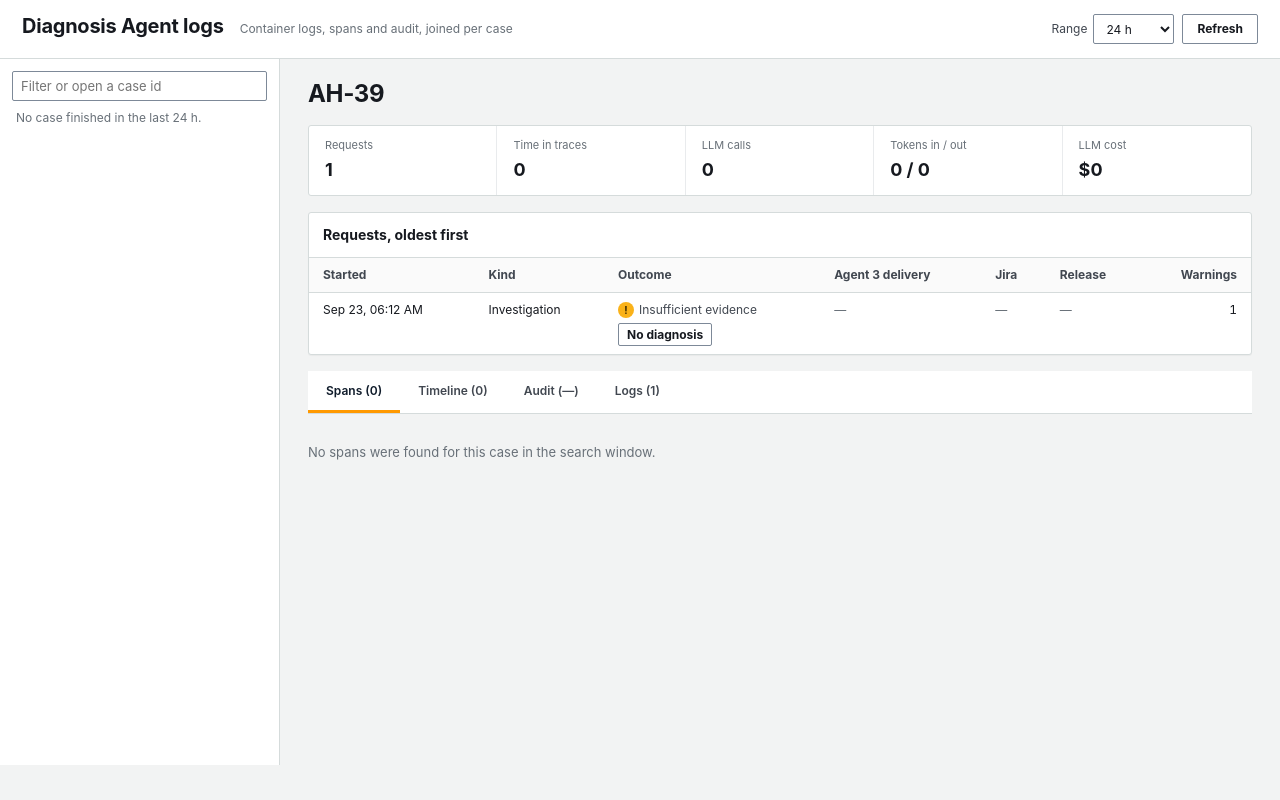
Scenario: re-investigating pre-fills the last run's scope, limited to known services, and starts a new task
Step 1. Click the button "No diagnosis" → (665, 334), box top-left (618, 323), bottom-right (712, 346)
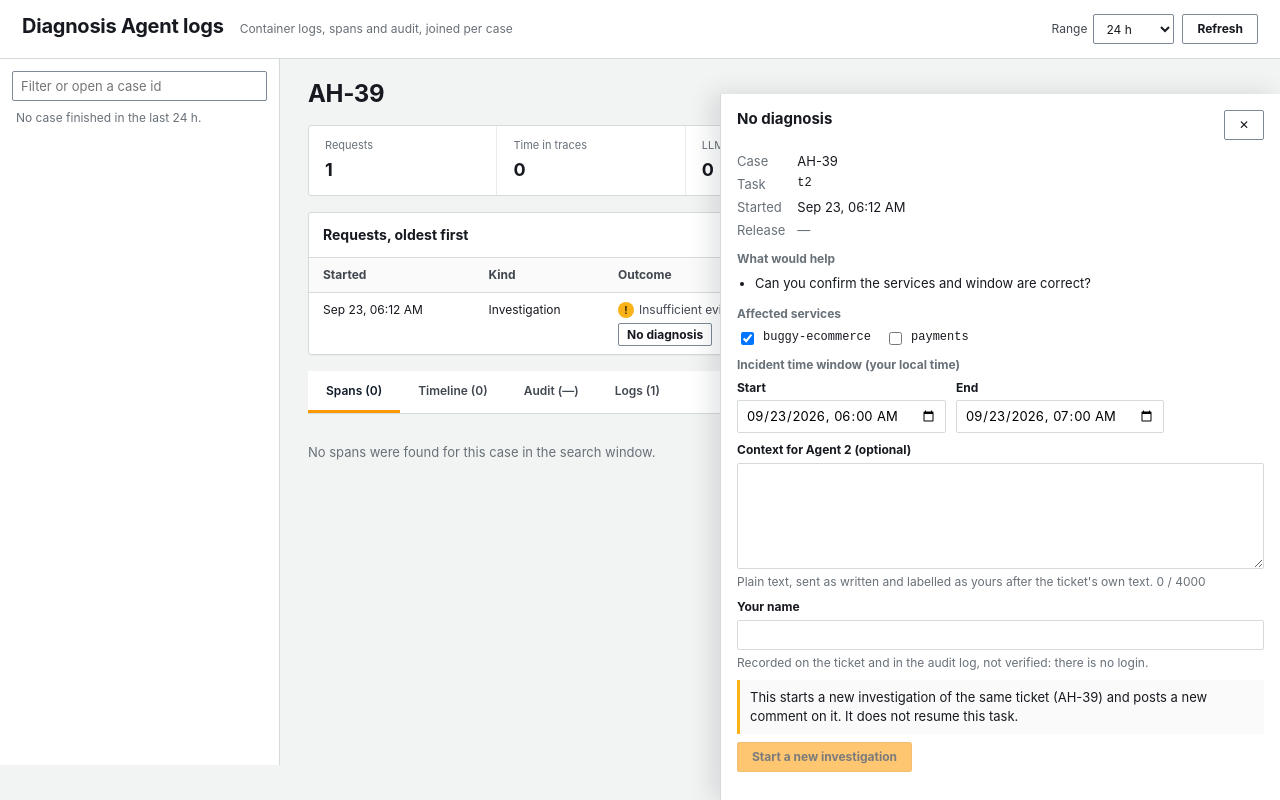
Check: the list item "Can you confirm the services and window are correct?" is shown, box top-left (755, 275), bottom-right (1091, 291)
Check: the checkbox labelled "buggy-ecommerce" is checked, box top-left (741, 332), bottom-right (754, 345)
Check: the checkbox labelled "payments" is not checked, box top-left (889, 332), bottom-right (902, 345)
Step 2. Type "Checkout broke after the 14:05 deploy. <b>hi</b>" into the text box labelled "Context for Agent 2 (optional)" → (1000, 516), box top-left (737, 463), bottom-right (1264, 569)
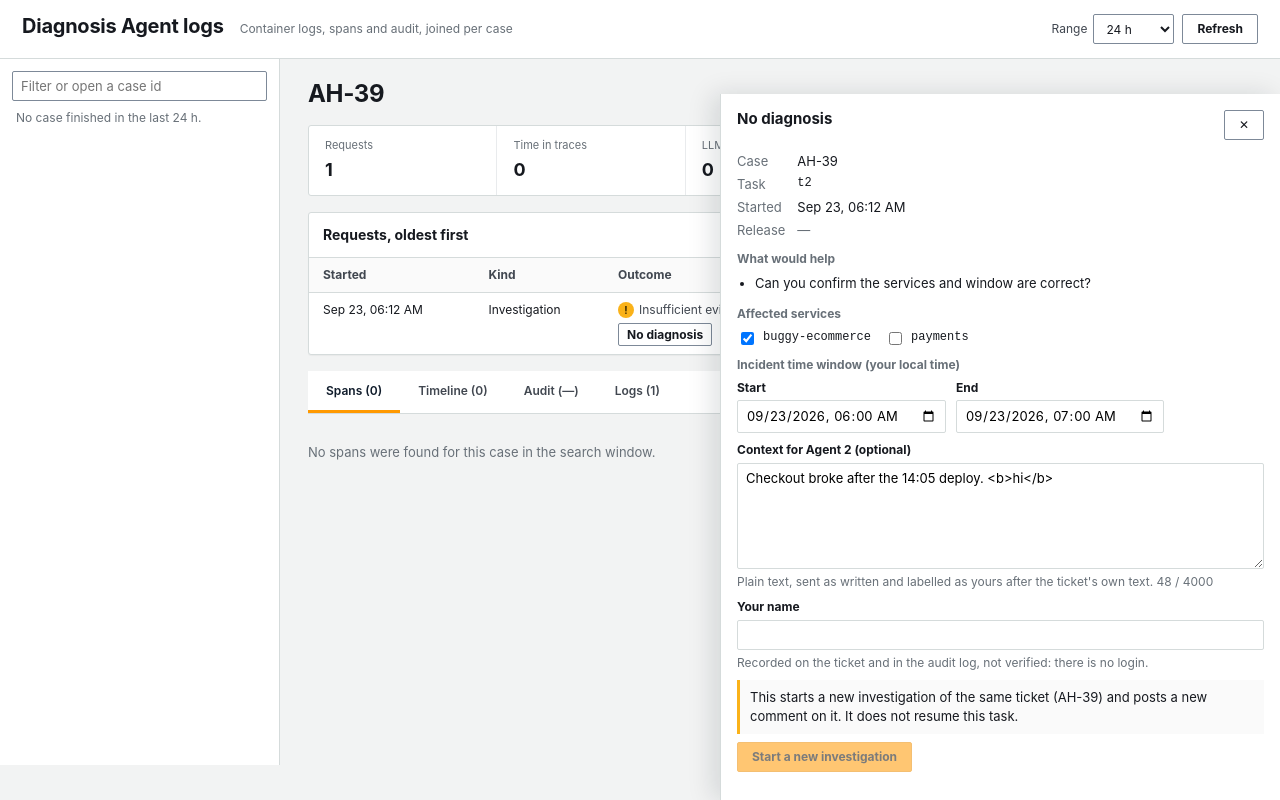
Step 3. Click the checkbox labelled "payments" → (896, 338), box top-left (889, 332), bottom-right (902, 345)
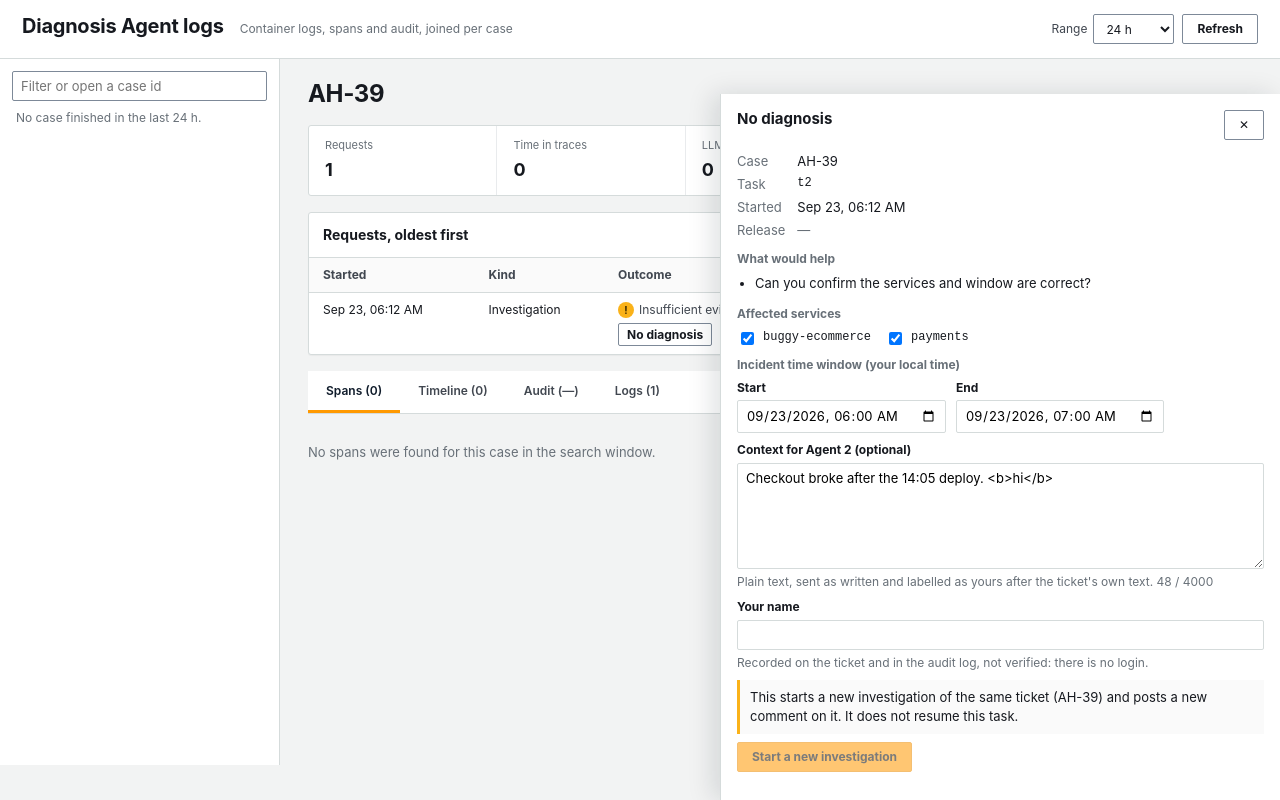
Step 4. Type "Dana" into the field labelled "Your name" → (1000, 635), box top-left (737, 620), bottom-right (1264, 650)
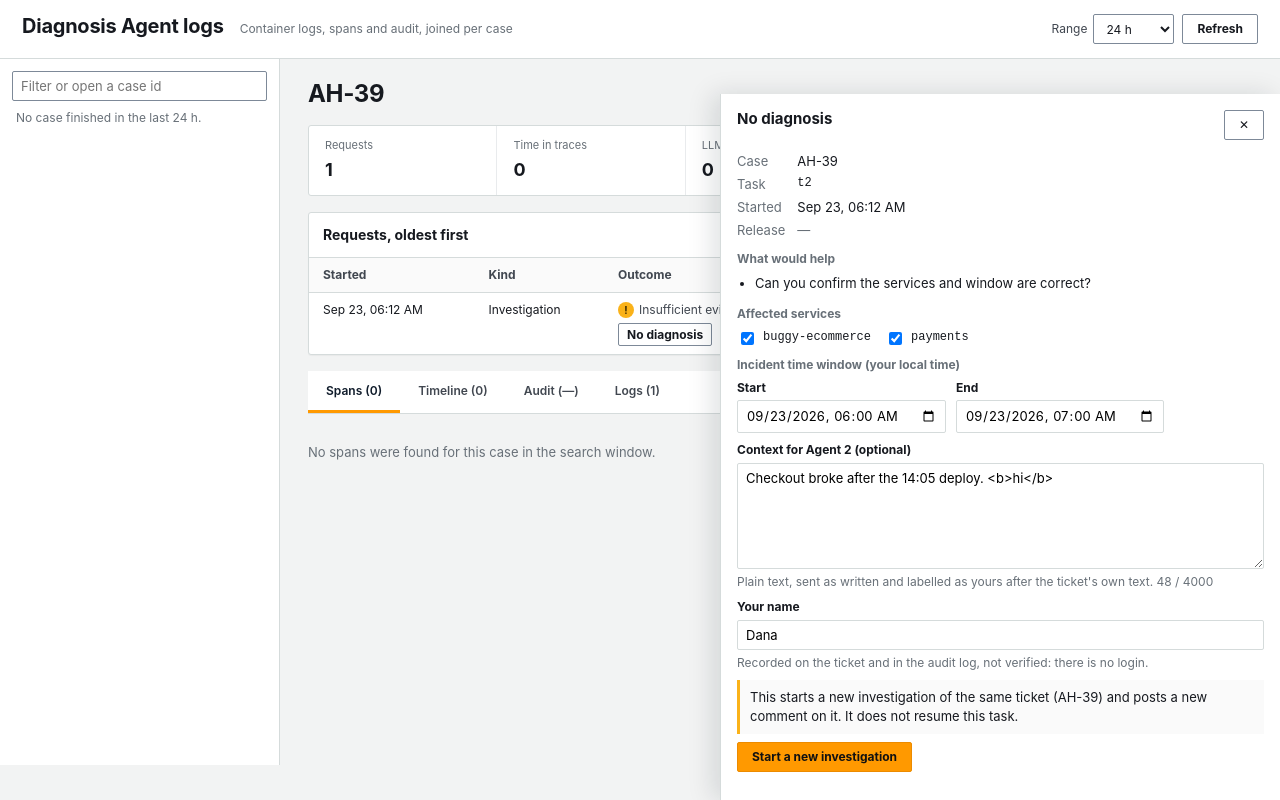
Step 5. Click the button "Start a new investigation" → (824, 756), box top-left (737, 742), bottom-right (912, 772)
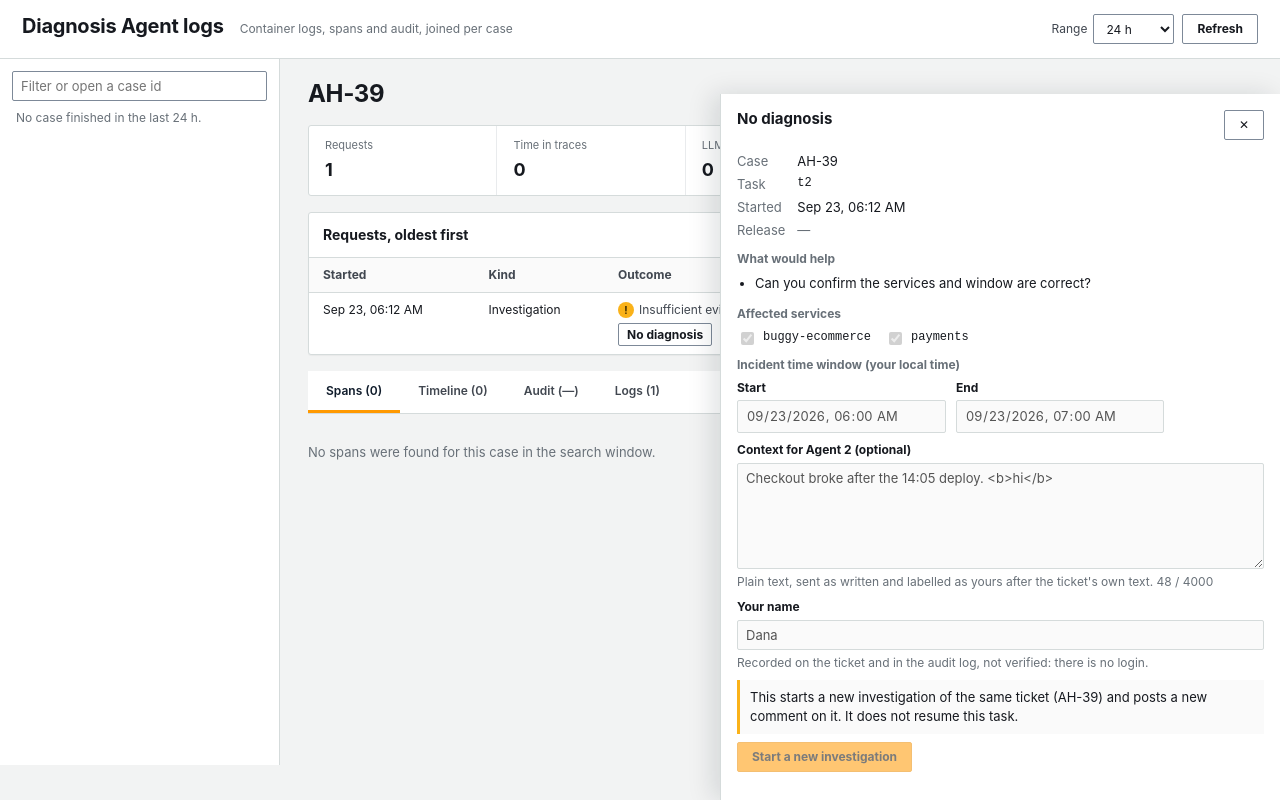
Step 6. Click the button "Start a new investigation" → (824, 756), box top-left (737, 742), bottom-right (912, 772)
(page scrolled)
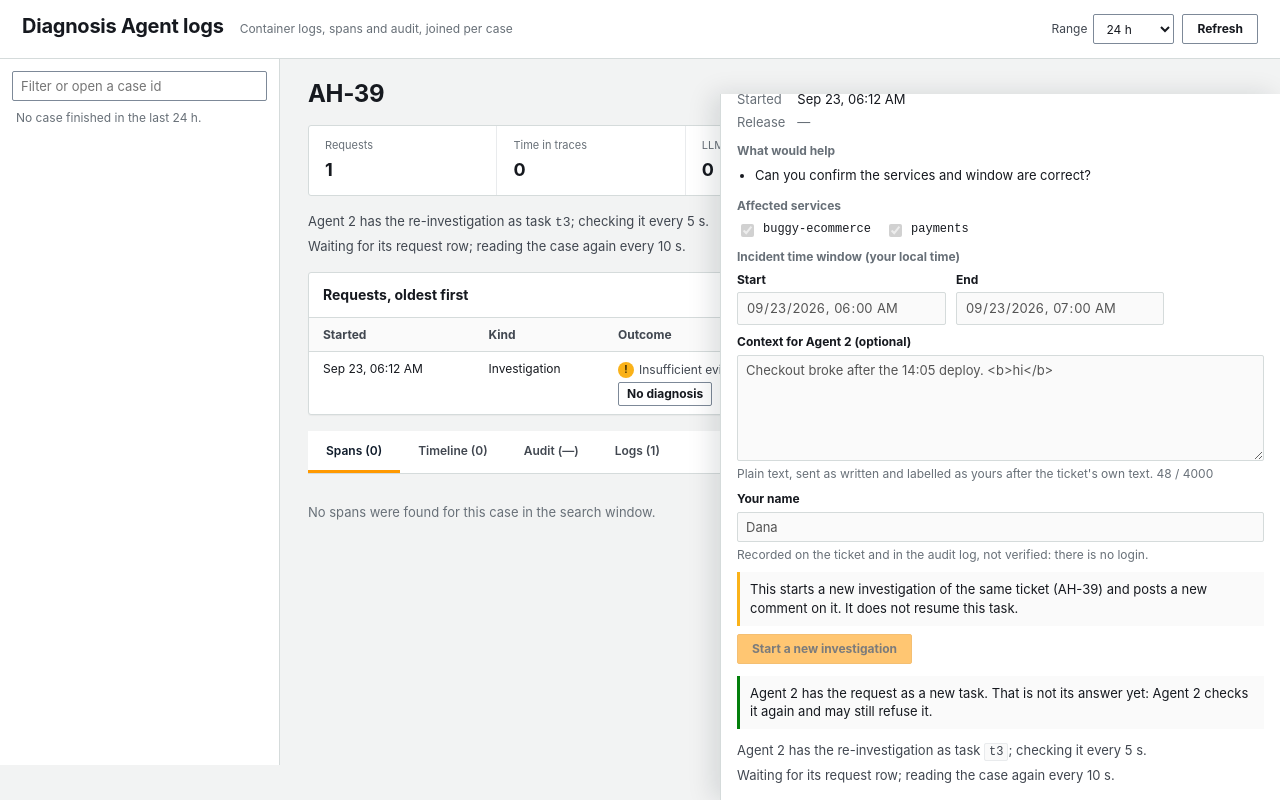
Check: the button "Start a new investigation" is disabled, box top-left (737, 634), bottom-right (912, 664)
Check: the text "Agent 2 has the request as a new task" is shown, box top-left (737, 676), bottom-right (1264, 729)
